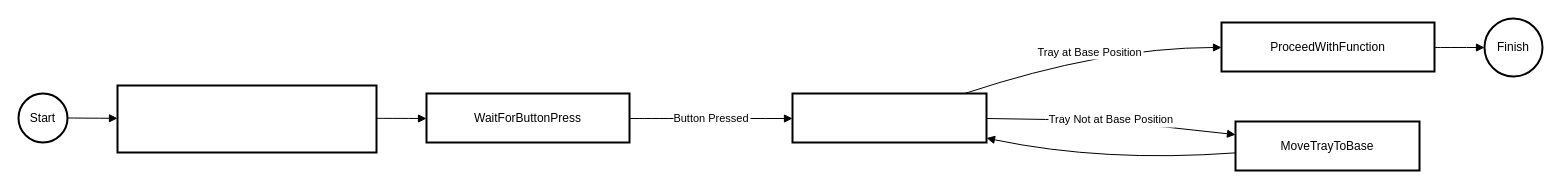
The diagram is 1560 pixels wide and 188 high, and some of its shapes have lost their labels. The box of each missing label's shape, as (x1, y1, x2, y2) in pixels:
CheckDisplayTimeAndMessage: (116, 84, 377, 153)
CheckTrayPosition: (791, 92, 987, 143)
